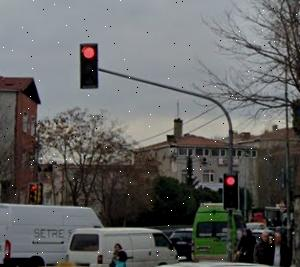redlight: (80, 43, 98, 87), (223, 174, 237, 206)
